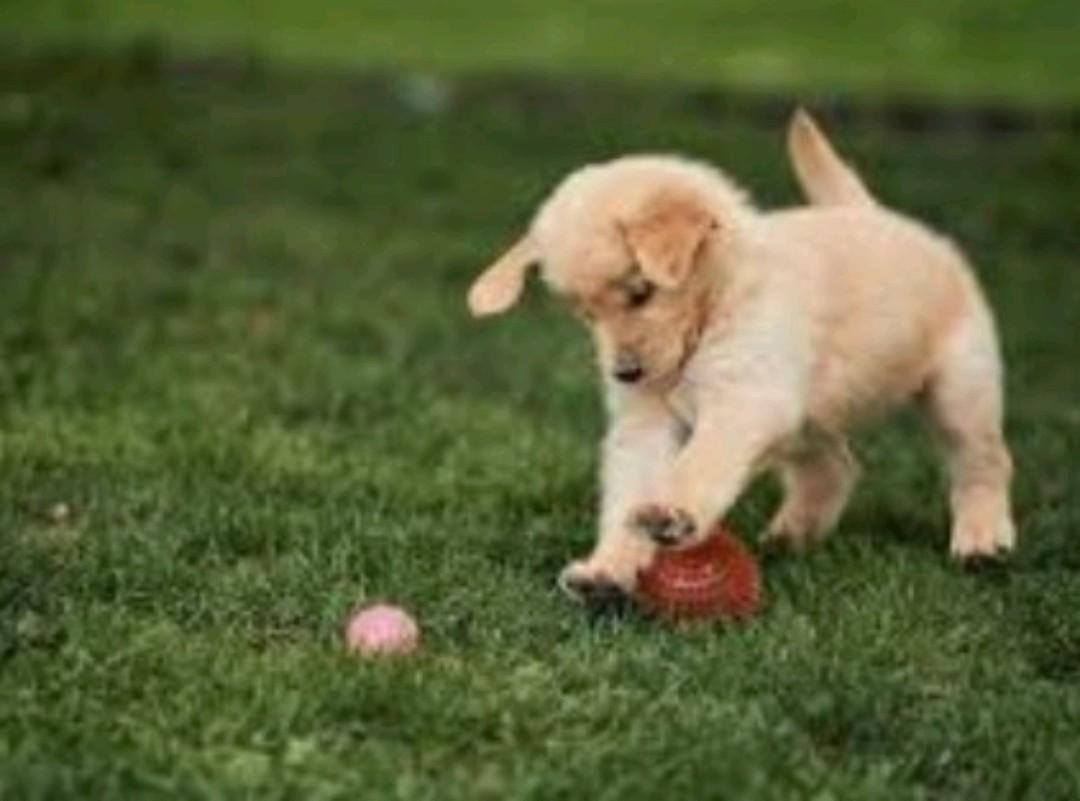puppy-dog: (461, 103, 1028, 613)
